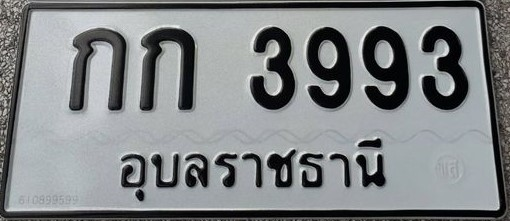txt01: (136, 24, 198, 113), (66, 26, 128, 113)
